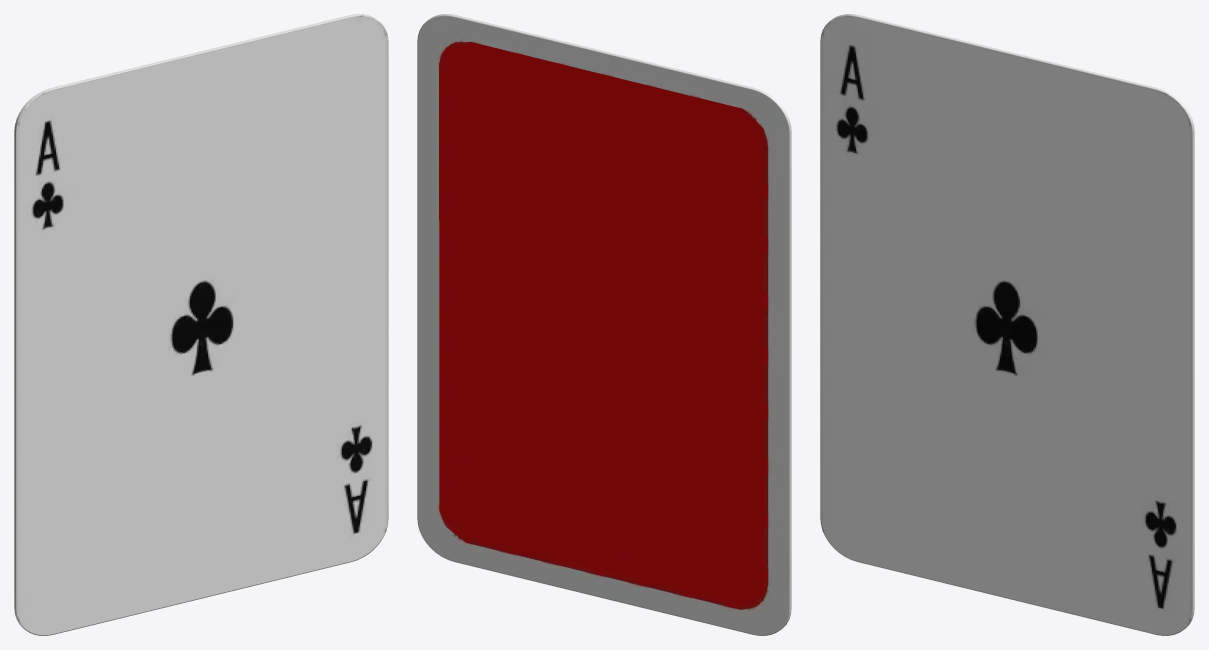
File: clubs_1-transformed.glb
The picture shows the model from 3 angles, left to right: view 1: azimuth 30°, elevation 25°; view 2: azimuth 150°, elevation 25°; view 3: azimuth 330°, elevation 25°; orthographic projection.
Parts seen in each view (by area): view 1: defaultMaterial.023; view 2: defaultMaterial.023; view 3: defaultMaterial.023.
Part boxes in pixels (x1=…): defaultMaterial.023: x1=14, y1=14, x2=388, y2=635; defaultMaterial.023: x1=417, y1=14, x2=791, y2=635; defaultMaterial.023: x1=820, y1=14, x2=1194, y2=635.
Bounding box in the file's own units: 0.1408 × 0.1972 × 0.00111.
Materials: 1 (1 with a texture image).
